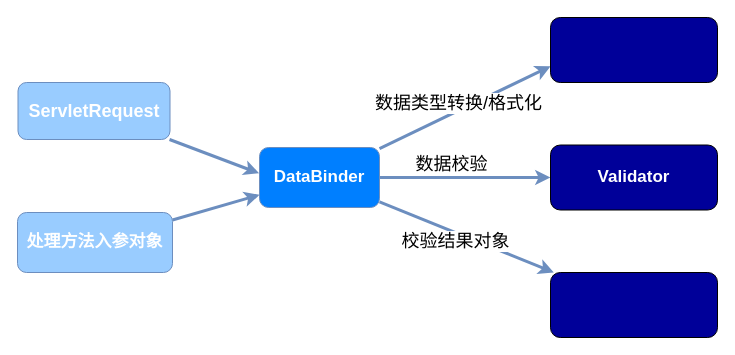
Some shapes in this 735 by 355 pixel diagram are drawn without their labels. The box of each missing label's shape, as (x1, y1, x2, y2) in pixels:
BindingResult: (550, 272, 718, 338)
ConversionService: (550, 16, 718, 82)
